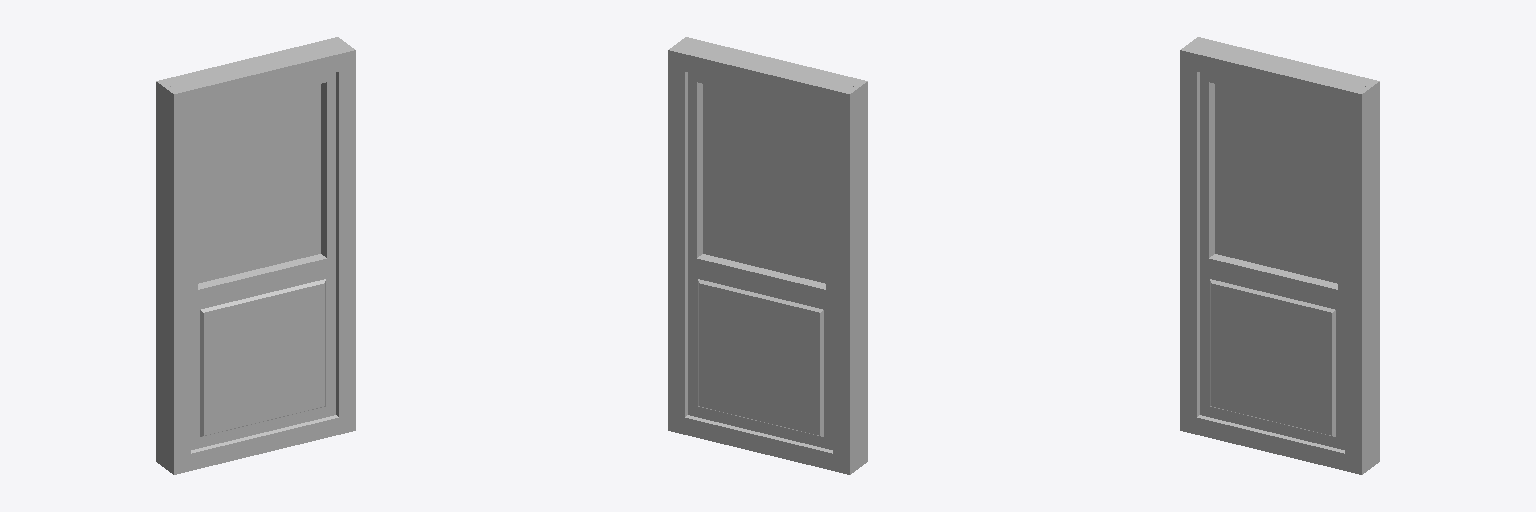
The model's file is door.obj.
3 views of the same model, side by side, from view 1: azimuth 30°, elevation 25°; view 2: azimuth 150°, elevation 25°; view 3: azimuth 330°, elevation 25° (orthographic).
Visible parts, largest first — view 1: Cube; view 2: Cube; view 3: Cube.
Part boxes in pixels (x1,y1,x2,y2): Cube: (156, 37, 355, 474); Cube: (668, 37, 867, 474); Cube: (1180, 37, 1379, 474).
Size of the model in its own units: 1 by 2 by 0.171.